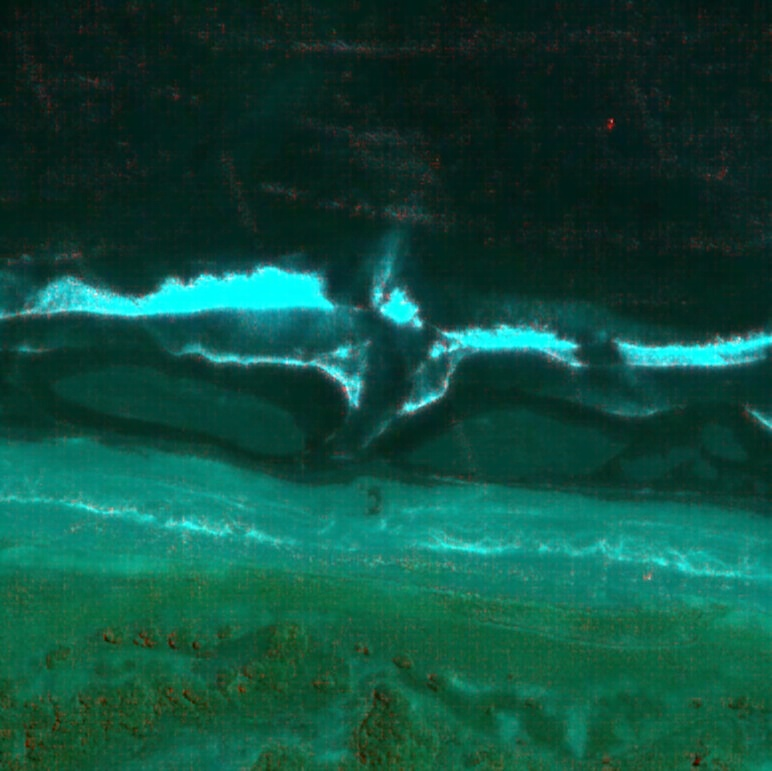rip_current: (317, 230, 453, 351)
